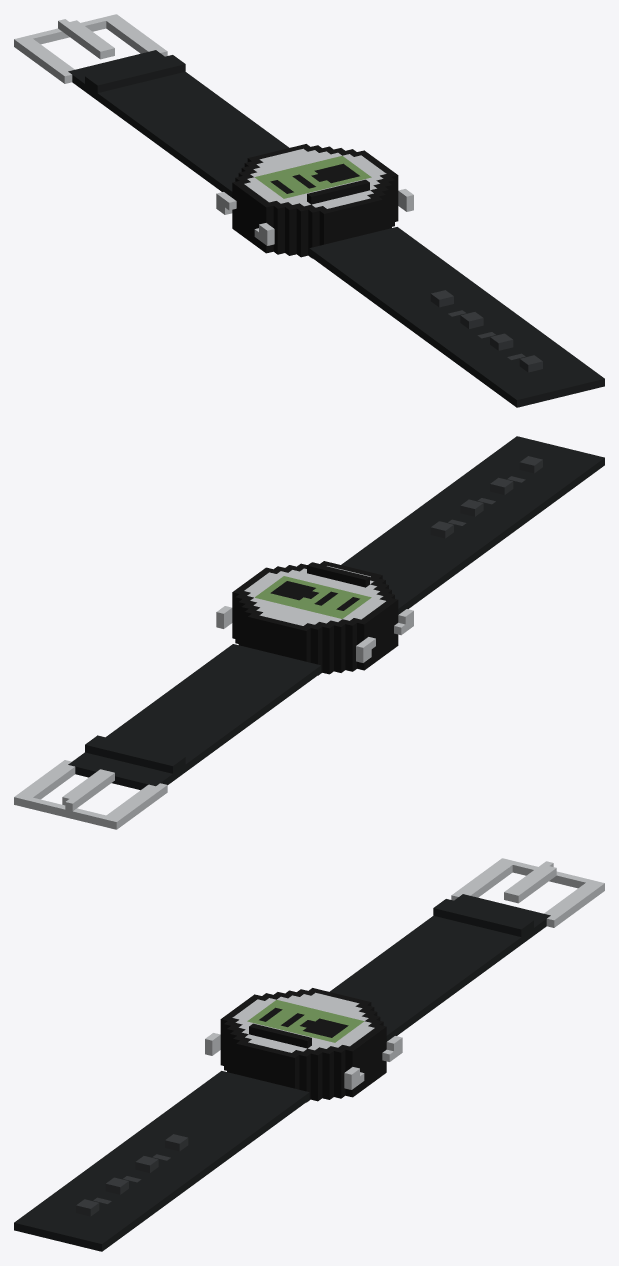
Rendered from wristwatch.glb.
3 views of the same model, one above another, from view 1: azimuth 30°, elevation 25°; view 2: azimuth 150°, elevation 25°; view 3: azimuth 330°, elevation 25° (orthographic).
Parts seen in each view (by area): view 1: wristwatch:compound; view 2: wristwatch:compound; view 3: wristwatch:compound.
Part boxes in pixels (x1,y1,x2,y2): wristwatch:compound: (14,14,604,407); wristwatch:compound: (14,436,604,829); wristwatch:compound: (14,858,604,1251).
Bounding box in the file's own units: 0.04 × 0.014 × 0.234.
